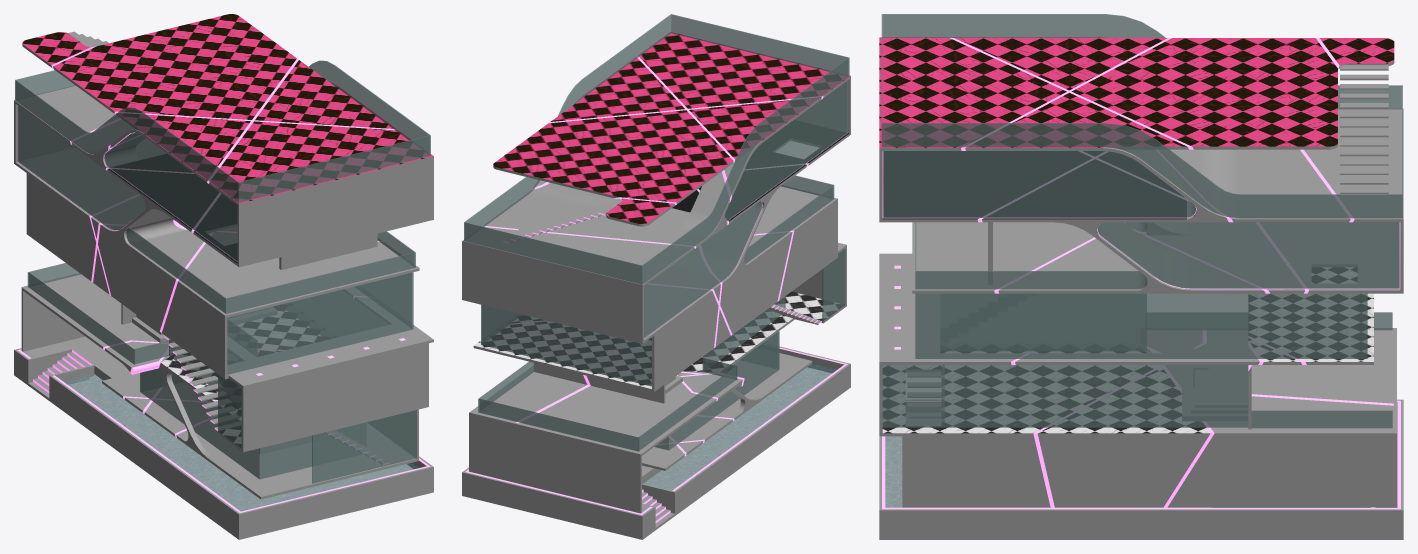
File: building.glb
3 renders of one model, left to right at view 1: azimuth 30°, elevation 25°; view 2: azimuth 150°, elevation 25°; view 3: azimuth 270°, elevation 25°, orthographic. The views are drawn at different scales.
Visible parts, largest first — view 1: building, neeewqall; view 2: building, neeewqall; view 3: building, neeewqall.
Part boxes in pixels (<box>): building: <box>14,14,433,539</box>; neeewqall: <box>21,273,85,351</box>; building: <box>462,14,850,539</box>; neeewqall: <box>469,374,641,513</box>; building: <box>879,14,1403,539</box>; neeewqall: <box>1265,328,1396,507</box>.
Size of what is drawn, in the model's own units: 15.77 by 27.59 by 31.54.
Materials: 11 (4 with a texture image).
